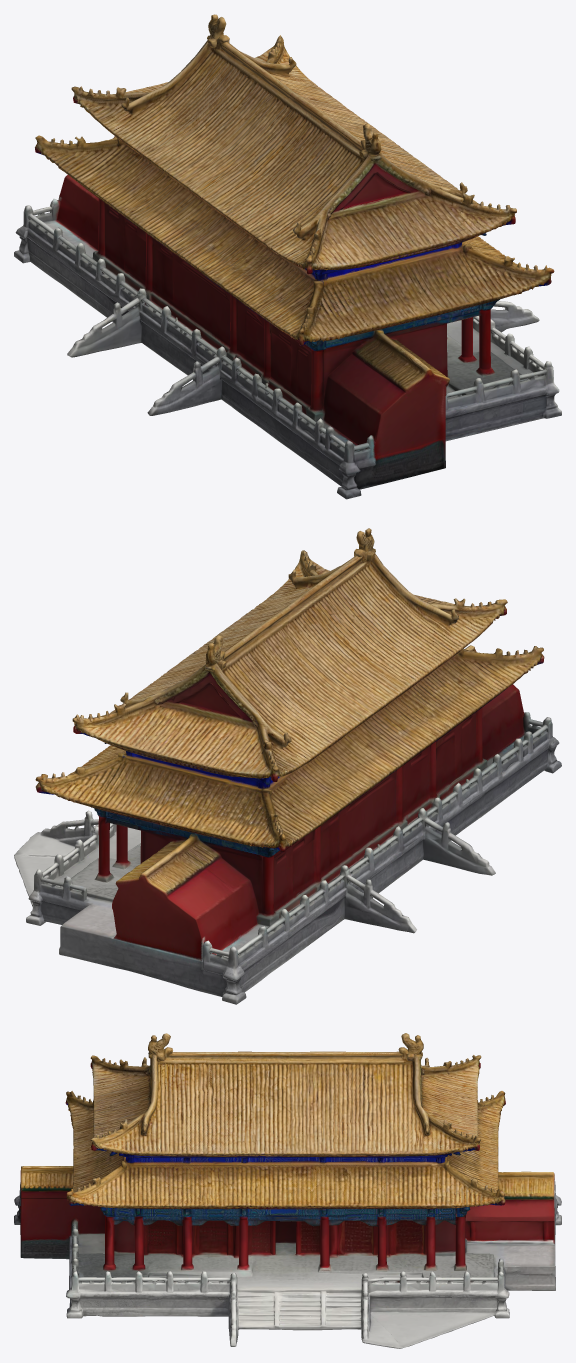
Rendered from palace-high.glb.
3 views of the same model, one above another, from view 1: azimuth 30°, elevation 25°; view 2: azimuth 150°, elevation 25°; view 3: azimuth 270°, elevation 25° (orthographic). The views are drawn at different scales.
Bounding box in the file's own units: 0.6778 × 0.4668 × 0.9999.
1 material, 1 textured.
